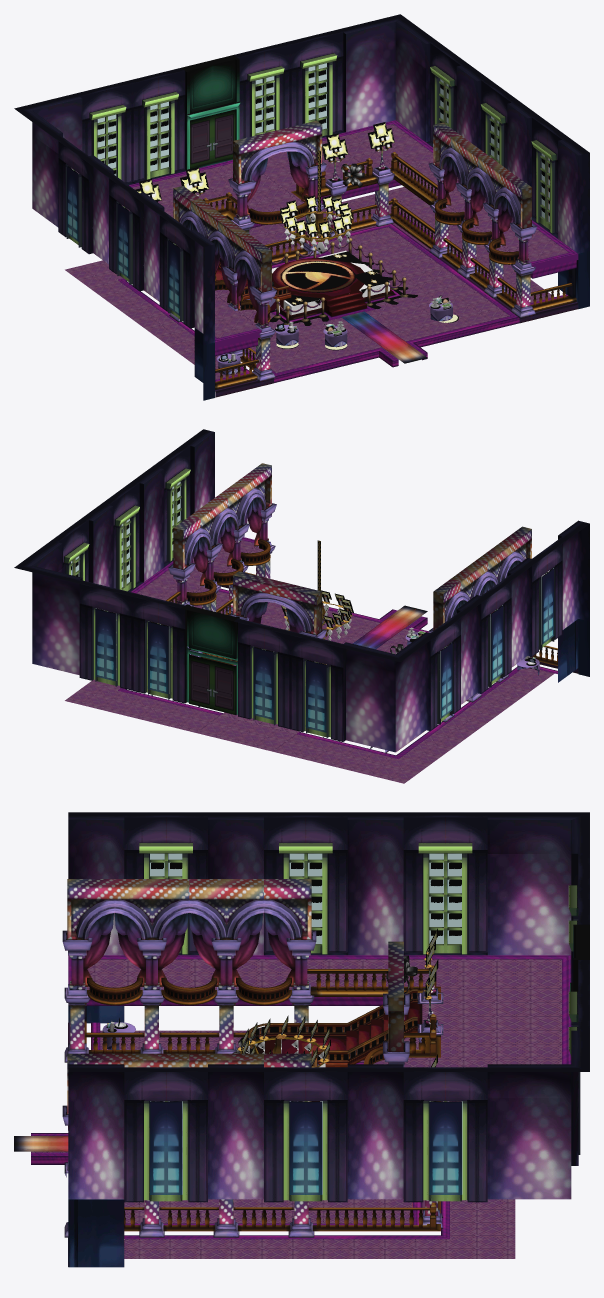
Rendered from maison 2.glb.
The picture shows the model from 3 angles, top to bottom: view 1: azimuth 30°, elevation 25°; view 2: azimuth 150°, elevation 25°; view 3: azimuth 270°, elevation 25°; orthographic projection. The views are drawn at different scales.
Visible parts, largest first — view 1: vsn_mesh_2_polySurface917, vsn_mesh_3_polySurface917, vsn_mesh_0_polySurface917, vsn_mesh_6_polySurface917, vsn_mesh_5_polySurface917, vsn_mesh_1_polySurface917, vsn_mesh_4_polySurface917, vsn_mesh_8_polySurface917, vsn_mesh_7_polySurface917; view 2: vsn_mesh_2_polySurface917, vsn_mesh_3_polySurface917, vsn_mesh_0_polySurface917, vsn_mesh_6_polySurface917; view 3: vsn_mesh_2_polySurface917, vsn_mesh_3_polySurface917, vsn_mesh_0_polySurface917, vsn_mesh_6_polySurface917, vsn_mesh_1_polySurface917, vsn_mesh_4_polySurface917, vsn_mesh_5_polySurface917.
Boxes of the visible parts, bbox=[...] form: vsn_mesh_2_polySurface917: bbox=[14, 14, 589, 400]; vsn_mesh_3_polySurface917: bbox=[144, 120, 578, 397]; vsn_mesh_0_polySurface917: bbox=[65, 124, 568, 379]; vsn_mesh_6_polySurface917: bbox=[67, 63, 549, 362]; vsn_mesh_5_polySurface917: bbox=[135, 122, 394, 234]; vsn_mesh_1_polySurface917: bbox=[172, 242, 394, 320]; vsn_mesh_4_polySurface917: bbox=[219, 260, 355, 294]; vsn_mesh_8_polySurface917: bbox=[272, 250, 389, 315]; vsn_mesh_7_polySurface917: bbox=[284, 213, 351, 254]; vsn_mesh_2_polySurface917: bbox=[14, 429, 589, 758]; vsn_mesh_3_polySurface917: bbox=[136, 463, 578, 752]; vsn_mesh_0_polySurface917: bbox=[65, 539, 554, 783]; vsn_mesh_6_polySurface917: bbox=[71, 482, 553, 718]; vsn_mesh_2_polySurface917: bbox=[14, 812, 589, 1267]; vsn_mesh_3_polySurface917: bbox=[62, 879, 443, 1266]; vsn_mesh_0_polySurface917: bbox=[31, 959, 561, 1258]; vsn_mesh_6_polySurface917: bbox=[106, 853, 462, 1194]; vsn_mesh_1_polySurface917: bbox=[248, 989, 422, 1101]; vsn_mesh_4_polySurface917: bbox=[254, 993, 417, 1059]; vsn_mesh_5_polySurface917: bbox=[242, 928, 438, 1101].
Size of the model in its own units: 5.94 by 2.26 by 5.56.
Materials: 10 (10 with a texture image).
